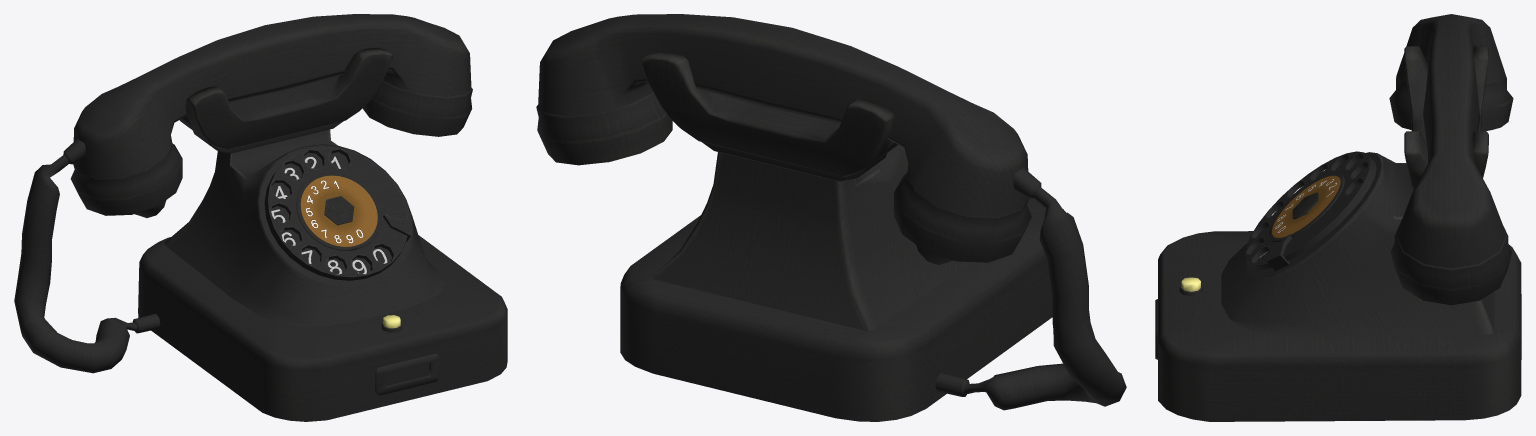
The model's file is phone2.glb.
3 views of the same model, side by side, from view 1: azimuth 30°, elevation 25°; view 2: azimuth 150°, elevation 25°; view 3: azimuth 270°, elevation 25° (orthographic). The views are drawn at different scales.
Parts seen in each view (by area): view 1: Object_2; view 2: Object_2; view 3: Object_2.
Part boxes in pixels (box(x1,y1,x2,y2)): Object_2: box(14, 14, 507, 421); Object_2: box(536, 14, 1126, 421); Object_2: box(1155, 14, 1521, 421).
Bounding box in the file's own units: 28.21 × 16.28 × 18.1.
Materials: 1 (1 with a texture image).
